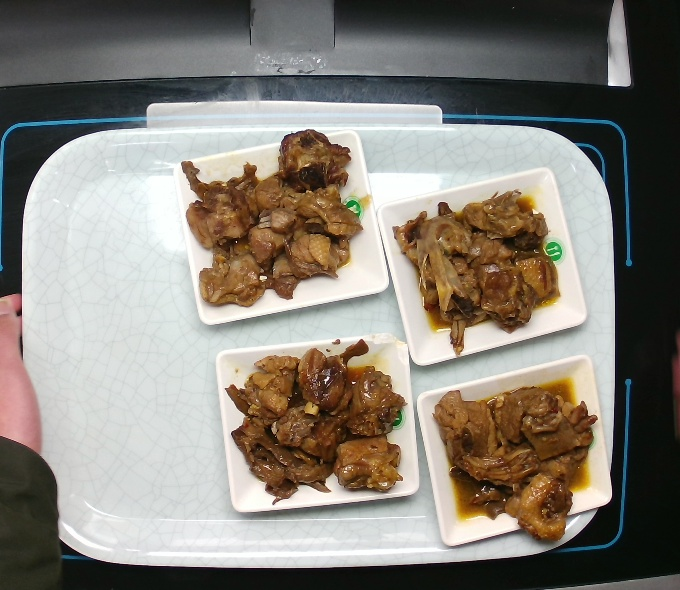wcq-HongShaoJi: (212, 326, 426, 513), (173, 120, 375, 309), (426, 357, 599, 550), (387, 177, 571, 357)
